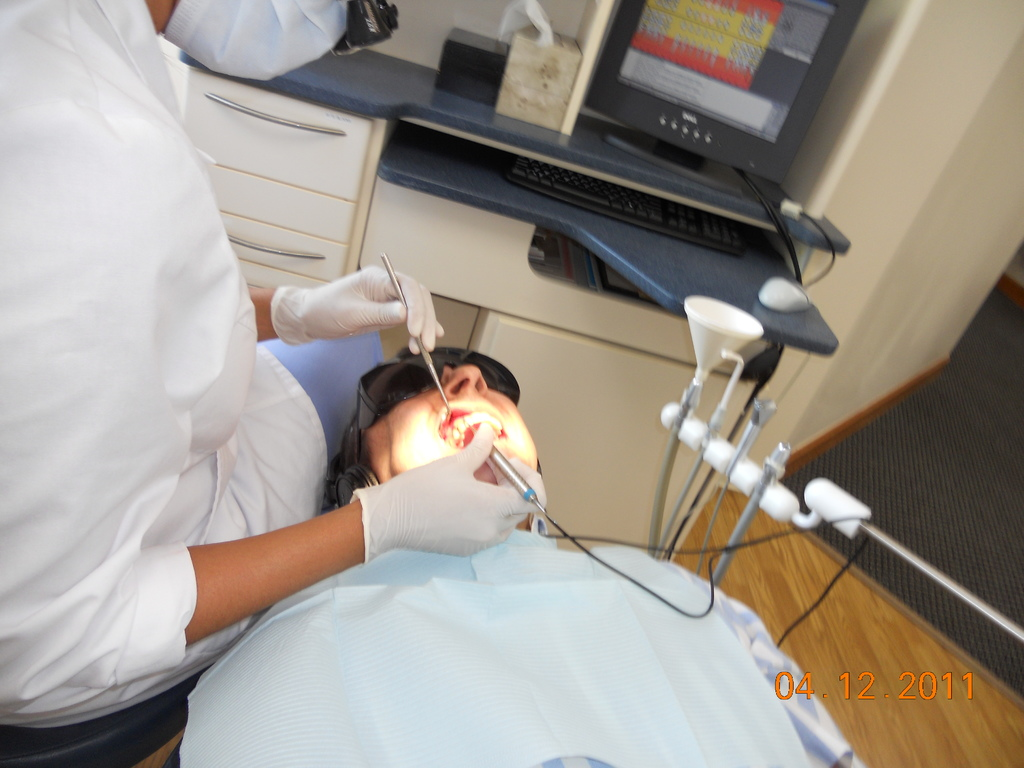Person: (0, 0, 546, 728), (179, 346, 868, 768)
